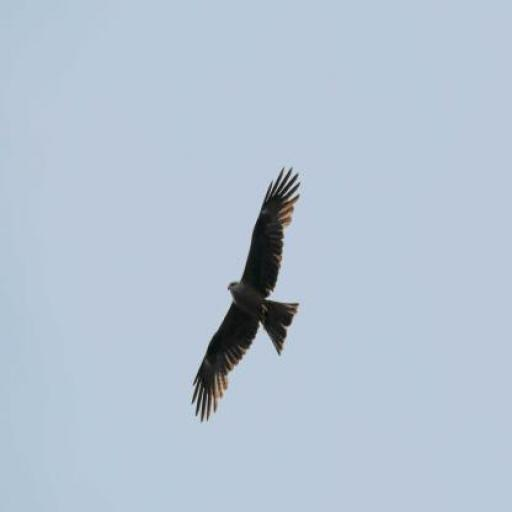bird: (189, 170, 302, 419)
